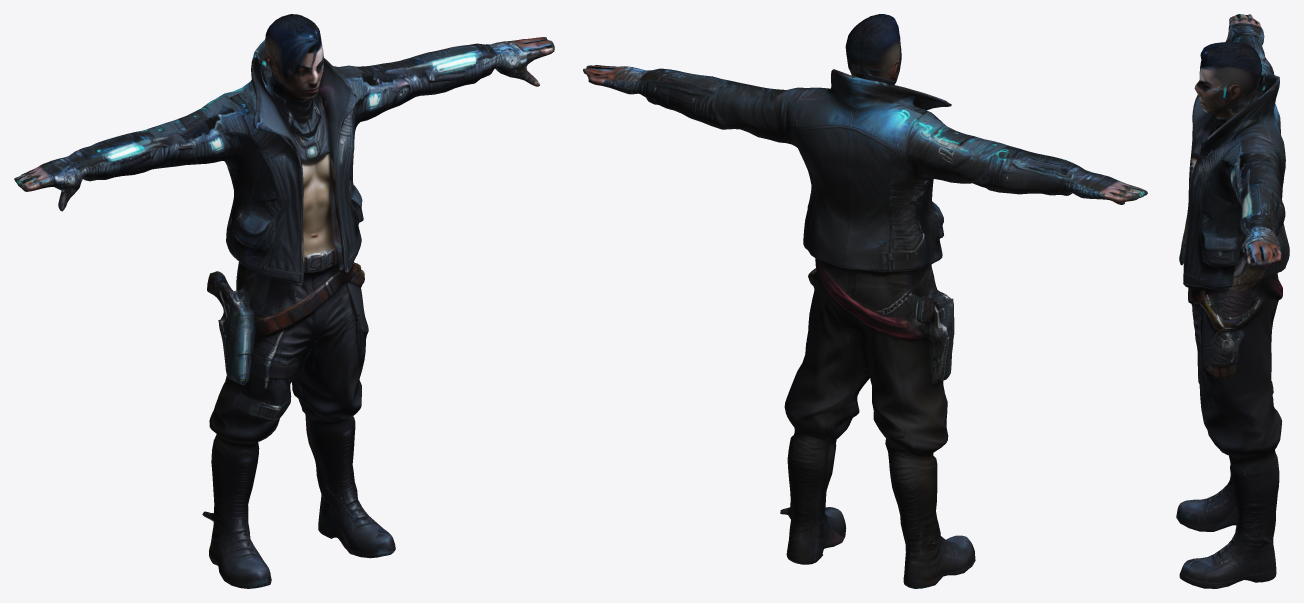
Rendered from buenopersonajeprincipal.glb.
The picture shows the model from 3 angles, left to right: view 1: azimuth 30°, elevation 25°; view 2: azimuth 150°, elevation 25°; view 3: azimuth 270°, elevation 25°; orthographic projection. The views are drawn at different scales.
Size of the model in its own units: 1.99 by 1.88 by 0.3805.
1 material, 1 textured.
